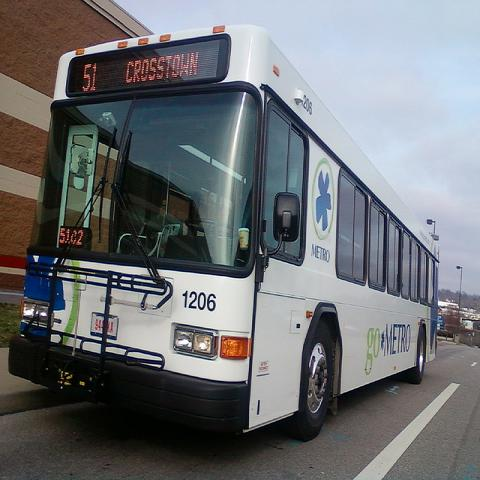bus: (2, 22, 445, 444)
